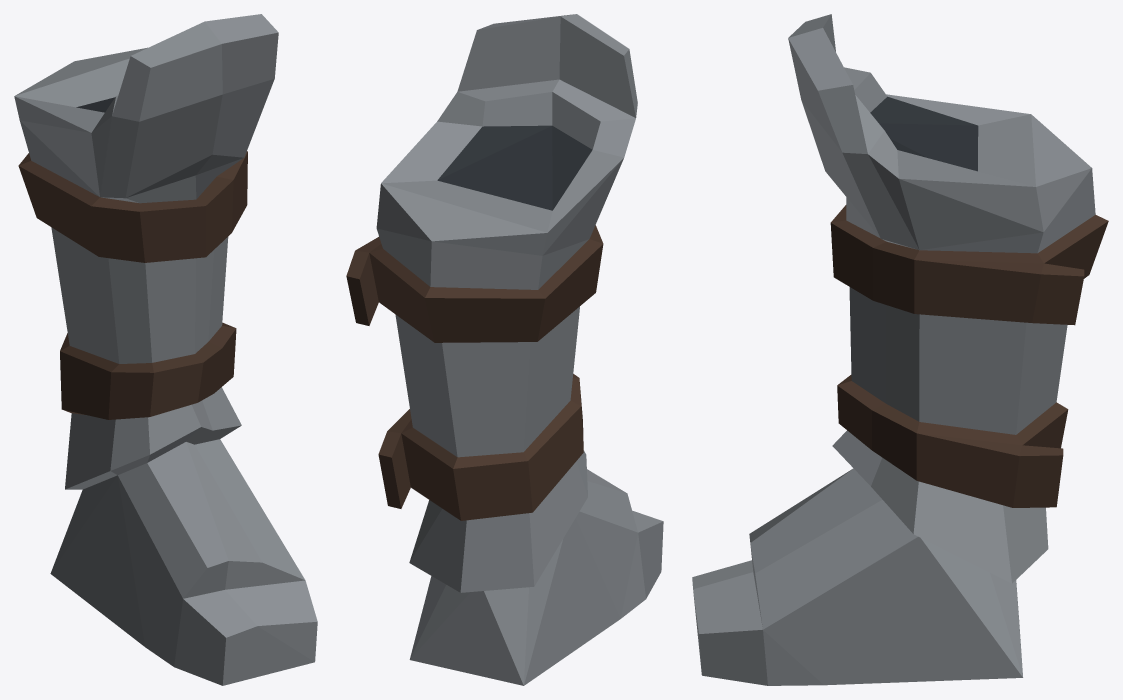
Rendered from Chr_LegLeft_Female_13_Static.fbx.
The picture shows the model from 3 angles, left to right: view 1: azimuth 30°, elevation 25°; view 2: azimuth 150°, elevation 25°; view 3: azimuth 270°, elevation 25°; orthographic projection. The views are drawn at different scales.
Visible parts, largest first — view 1: Chr_LegLeft_Female_13_Static; view 2: Chr_LegLeft_Female_13_Static; view 3: Chr_LegLeft_Female_13_Static.
Part boxes in pixels (box(x1,y1,x2,y2)): Chr_LegLeft_Female_13_Static: box(14, 14, 317, 685); Chr_LegLeft_Female_13_Static: box(346, 14, 663, 685); Chr_LegLeft_Female_13_Static: box(692, 14, 1108, 685).
Bounding box in the file's own units: 0.1624 × 0.4845 × 0.2937.
